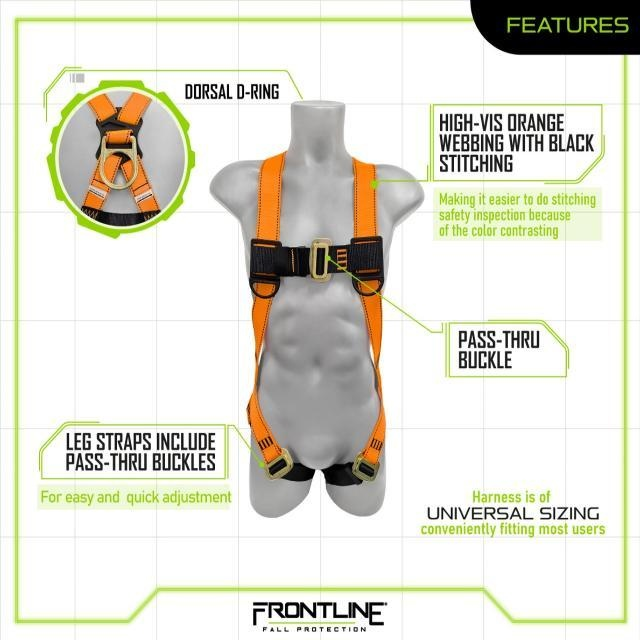Arnes_seguridad: (243, 146, 392, 489), (80, 93, 161, 228)
